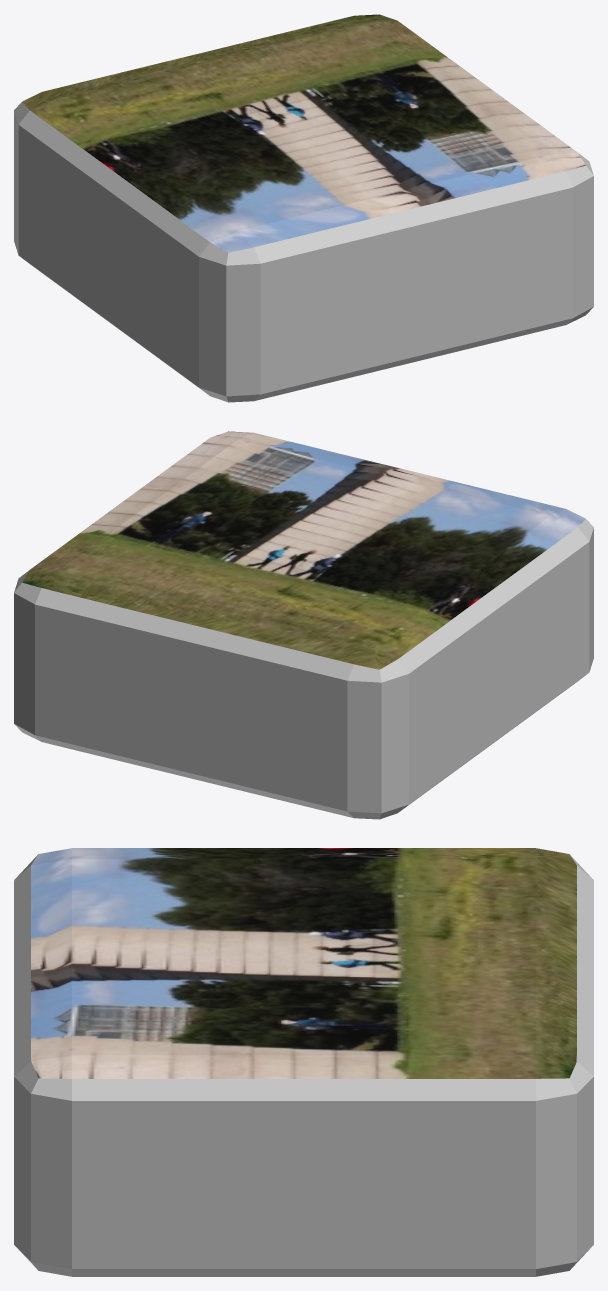
File: peça8.obj
3 renders of one model, top to bottom at view 1: azimuth 30°, elevation 25°; view 2: azimuth 150°, elevation 25°; view 3: azimuth 270°, elevation 25°, orthographic. The views are drawn at different scales.
Parts seen in each view (by area): view 1: Cubo.006; view 2: Cubo.006; view 3: Cubo.006.
Boxes of the visible parts, x1=… form: Cubo.006: x1=14, y1=14, x2=593, y2=402; Cubo.006: x1=14, y1=431, x2=593, y2=819; Cubo.006: x1=14, y1=848, x2=593, y2=1276.
Size of the model in its own units: 0.5 by 0.2 by 0.5.
